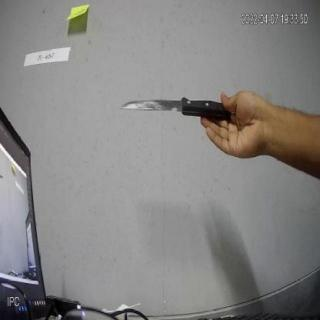knife: (121, 98, 235, 120)
